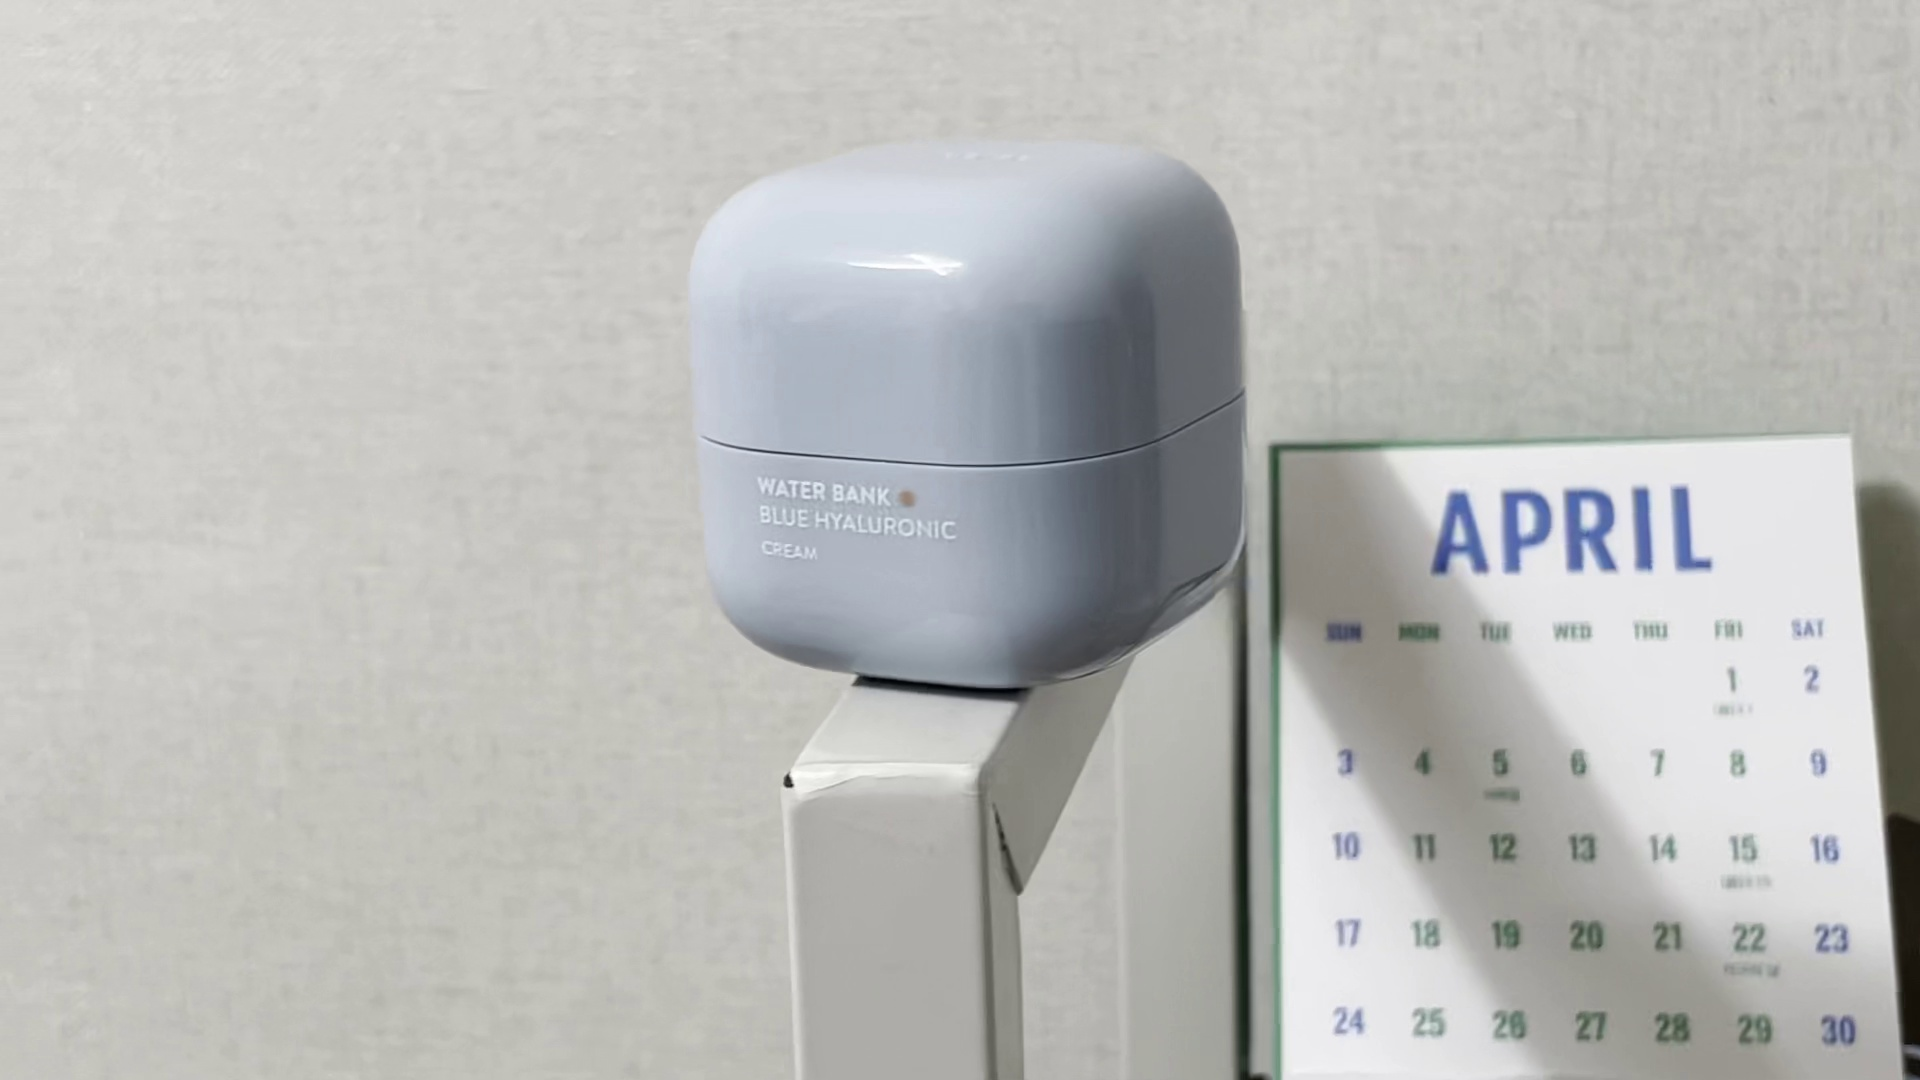cream: (683, 129, 1261, 680)
